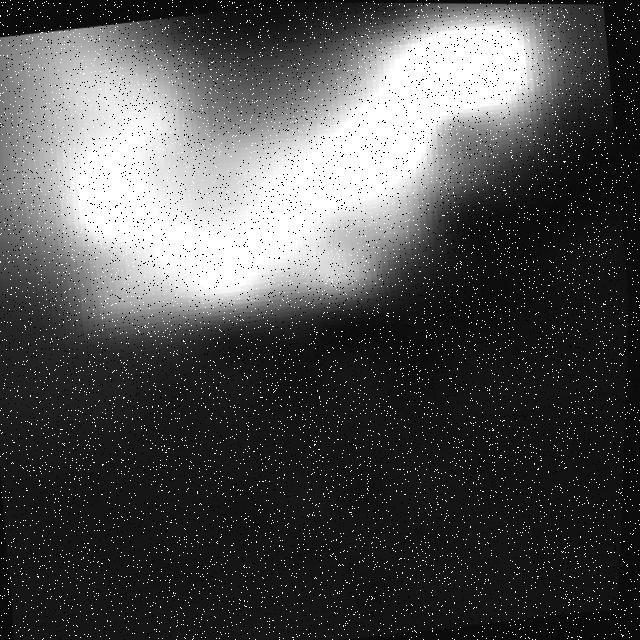person: (1, 1, 600, 336)
